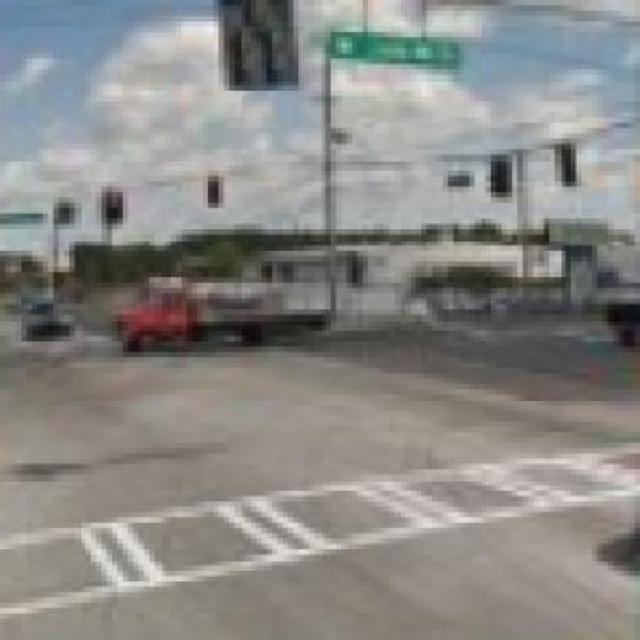crosswalk: (6, 456, 634, 610)
